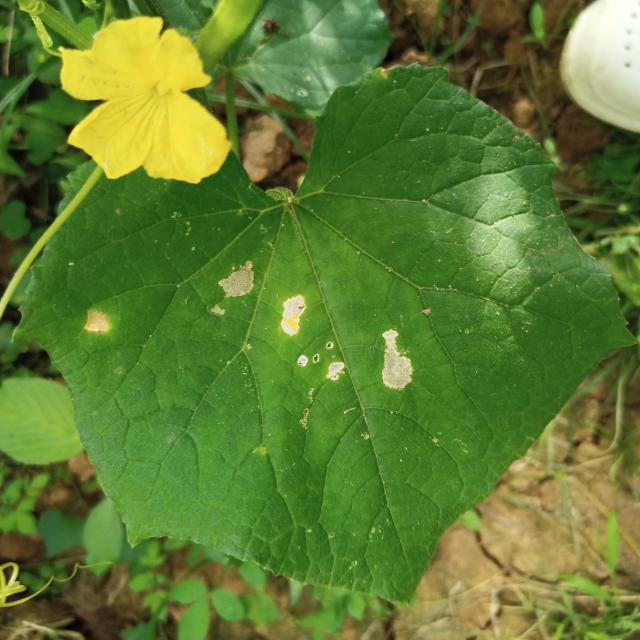disease_cucumber: (210, 258, 416, 393), (83, 309, 112, 337)
